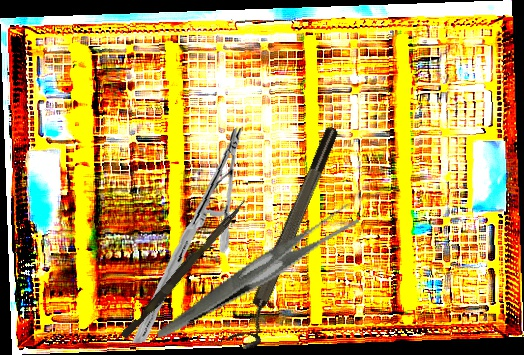Dressing Forceps: (138, 202, 375, 338)
Fixation Ring: (226, 123, 353, 355)
Needle Holder: (117, 127, 260, 344)
Pusher: (120, 194, 248, 343)
